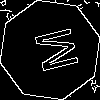M: (25, 25, 80, 77)
